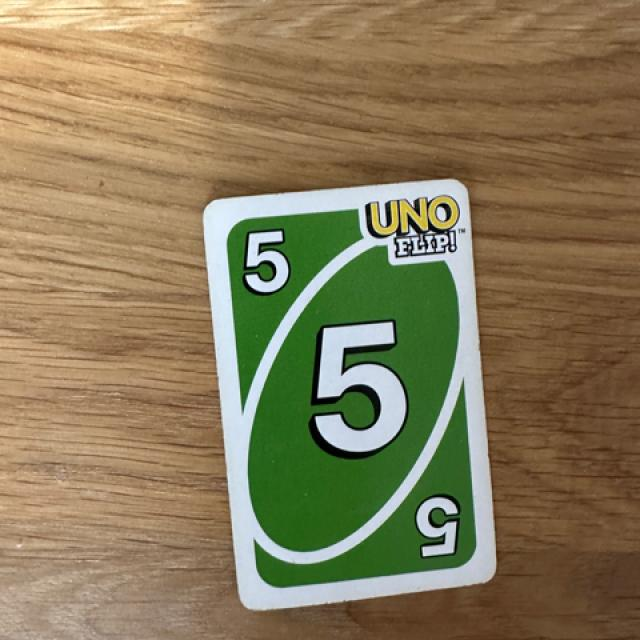lgreen-5: (220, 212, 309, 319)
